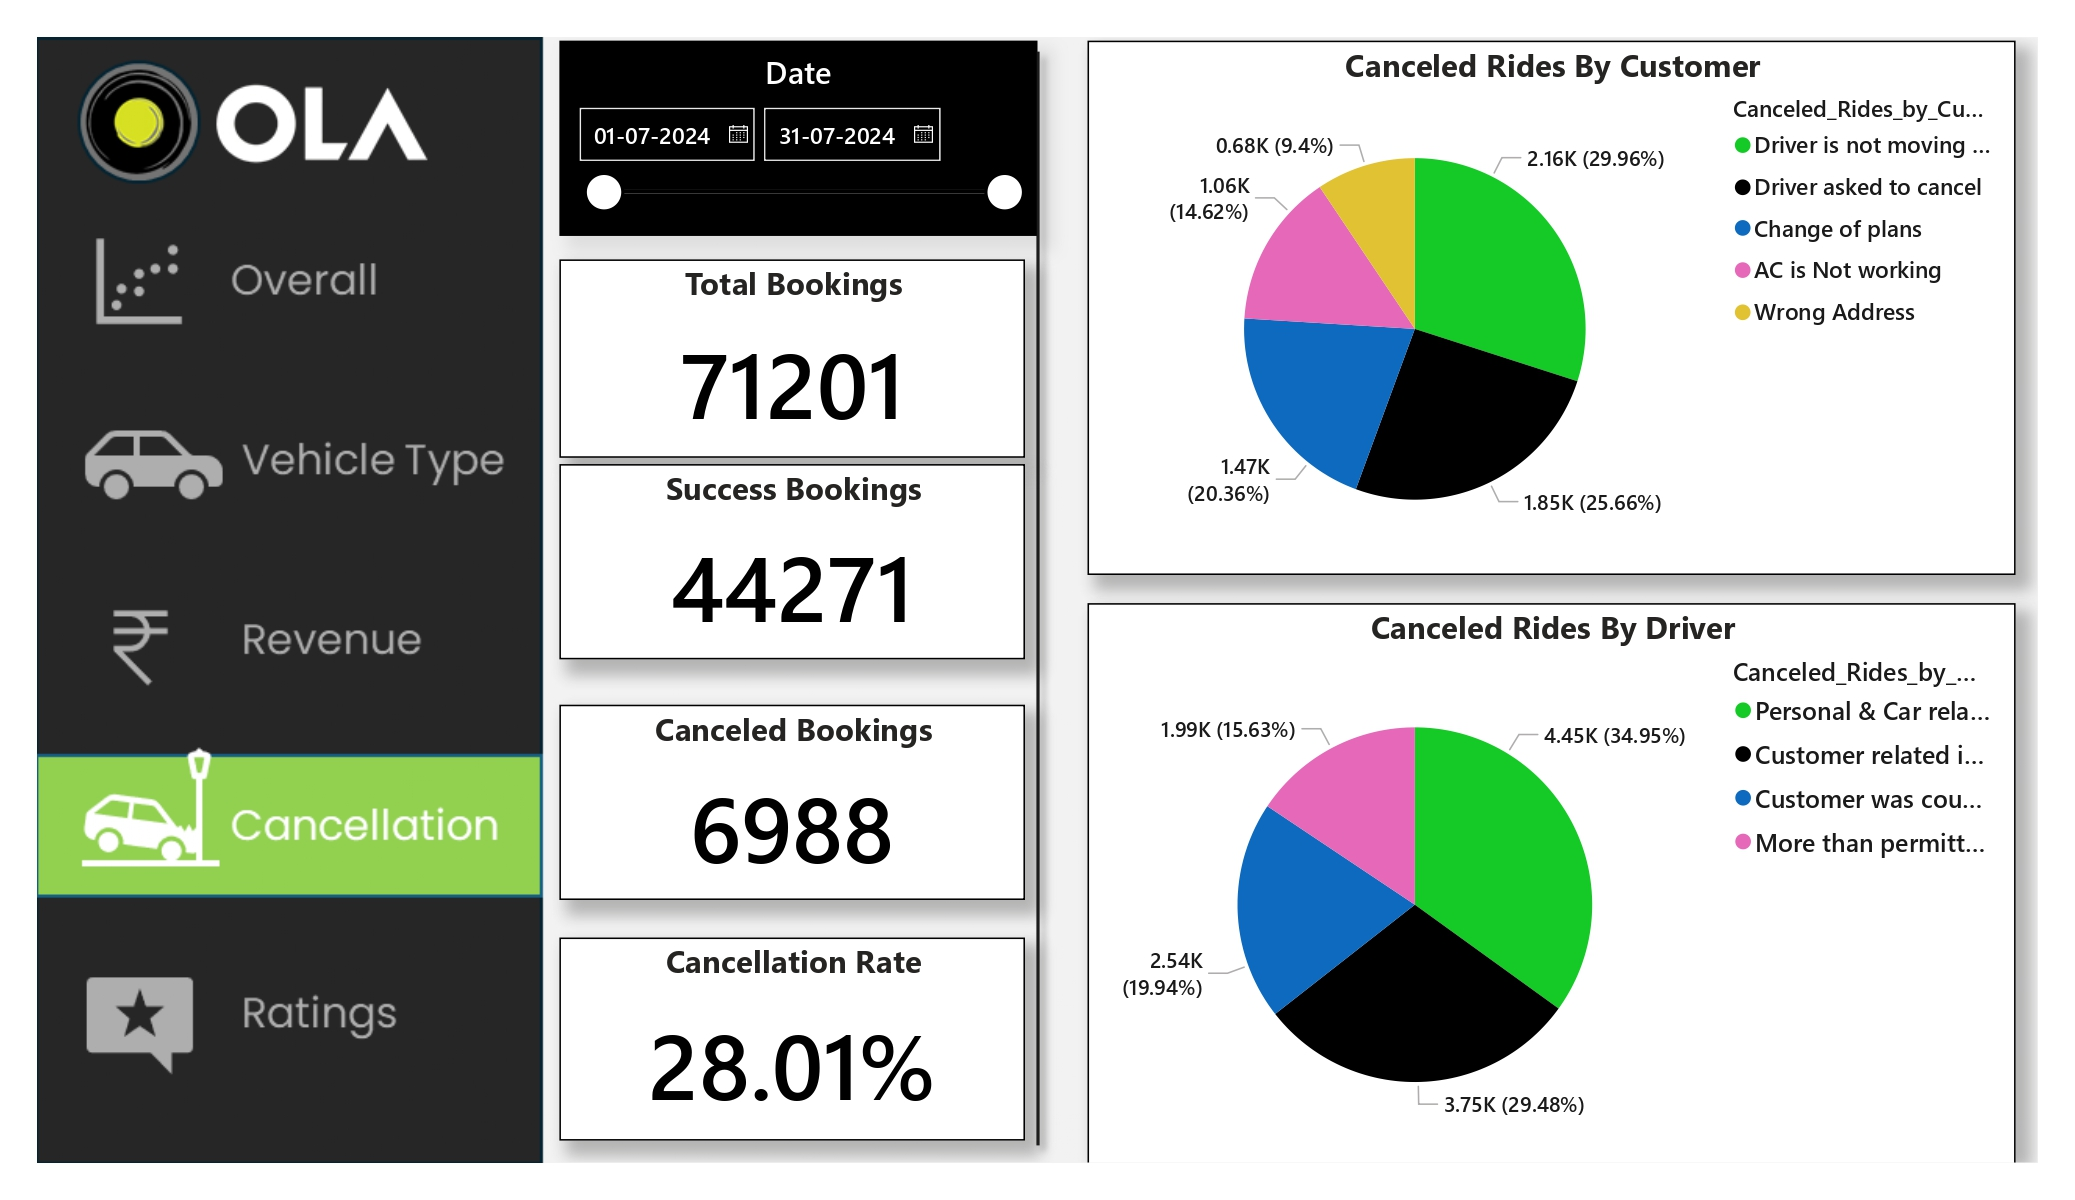

What the dashboard file says about the page in this screenshot:
{"tool":"powerbi","page":{"name":"cancelllation","canvas":[1280,720],"ordinal":3},"visuals":[{"type":"actionButton","box":[0,218.6,324.3,90],"z":0},{"type":"actionButton","box":[0,342.9,324.3,90],"z":1000},{"type":"actionButton","box":[0,218.6,324.3,90],"z":2000},{"type":"actionButton","box":[0,342.9,324.3,90],"z":3000},{"type":"actionButton","box":[0,111.4,324.3,85.7],"z":4000},{"type":"actionButton","box":[0,458.6,324.3,90],"z":5000},{"type":"actionButton","box":[0,577.1,324.3,90],"z":6000},{"type":"actionButton","box":[0,580,324.3,90],"z":7000},{"type":"actionButton","box":[0,228.6,324.3,90],"z":8000},{"type":"actionButton","box":[10,121.4,324.3,85.7],"z":9000},{"type":"actionButton","box":[10,352.9,324.3,90],"z":10000},{"type":"actionButton","box":[0,594.3,324.3,90],"z":11000},{"type":"actionButton","box":[0,352.9,324.6,90.7],"z":12000},{"type":"actionButton","box":[0,112,324.6,85],"z":13000},{"type":"actionButton","box":[0,223.9,324.6,90.7],"z":14000},{"type":"actionButton","box":[0,337.3,324.6,90.7],"z":15000},{"type":"actionButton","box":[0,579.7,324.6,90.7],"z":16000},{"type":"pieChart","title":"Canceled Rides By Customer","fields":{"Category":["Bookings.Canceled_Rides_by_Customer"],"Y":["CountNonNull(Bookings.Canceled_Rides_by_Customer)"]},"box":[671.8,2,594.3,341.9],"z":17000},{"type":"pieChart","title":"Canceled Rides By Driver","fields":{"Category":["Bookings.Canceled_Rides_by_Driver"],"Y":["CountNonNull(Bookings.Canceled_Rides_by_Driver)"]},"box":[671.8,361.7,594.3,359.8],"z":18000},{"type":"slicer","title":"Date","fields":{"Values":["Bookings.Date"]},"box":[334.4,2.1,305.6,125.1],"z":19000},{"type":"card","title":"Canceled Bookings","fields":{"Values":["CountNonNull(Bookings.Booking_ID)"]},"box":[334.4,426.7,297.4,125.1],"z":20000},{"type":"card","title":"Total Bookings","fields":{"Values":["CountNonNull(Bookings.Booking_ID)"]},"box":[334.4,141.5,297.4,127.2],"z":21000},{"type":"shape","box":[613.3,0,53.3,717.9],"z":22000},{"type":"card","title":"Success Bookings","fields":{"Values":["CountNonNull(Bookings.Booking_ID)"]},"box":[334.4,272.8,297.4,125.1],"z":23000},{"type":"card","title":"Cancellation Rate","fields":{"Values":["Bookings.Canceledpercentage"]},"box":[334.4,576.4,297.4,129.2],"z":24000}]}

Visuals, with their boxes on the page's 1280x720 design canvas (x1, y1, x2, y2). These are canvas units, not pixel positions in the 2075x1200 screenshot, which may show the page scaled, cropped or inside an application window:
actionButton: <bbox>0, 219, 324, 309</bbox>
actionButton: <bbox>0, 343, 324, 433</bbox>
actionButton: <bbox>0, 219, 324, 309</bbox>
actionButton: <bbox>0, 343, 324, 433</bbox>
actionButton: <bbox>0, 111, 324, 197</bbox>
actionButton: <bbox>0, 459, 324, 549</bbox>
actionButton: <bbox>0, 577, 324, 667</bbox>
actionButton: <bbox>0, 580, 324, 670</bbox>
actionButton: <bbox>0, 229, 324, 319</bbox>
actionButton: <bbox>10, 121, 334, 207</bbox>
actionButton: <bbox>10, 353, 334, 443</bbox>
actionButton: <bbox>0, 594, 324, 684</bbox>
actionButton: <bbox>0, 353, 325, 444</bbox>
actionButton: <bbox>0, 112, 325, 197</bbox>
actionButton: <bbox>0, 224, 325, 315</bbox>
actionButton: <bbox>0, 337, 325, 428</bbox>
actionButton: <bbox>0, 580, 325, 670</bbox>
"Canceled Rides By Customer" pieChart: <bbox>672, 2, 1266, 344</bbox>
"Canceled Rides By Driver" pieChart: <bbox>672, 362, 1266, 722</bbox>
"Date" slicer: <bbox>334, 2, 640, 127</bbox>
"Canceled Bookings" card: <bbox>334, 427, 632, 552</bbox>
"Total Bookings" card: <bbox>334, 142, 632, 269</bbox>
shape: <bbox>613, 0, 667, 718</bbox>
"Success Bookings" card: <bbox>334, 273, 632, 398</bbox>
"Cancellation Rate" card: <bbox>334, 576, 632, 706</bbox>
